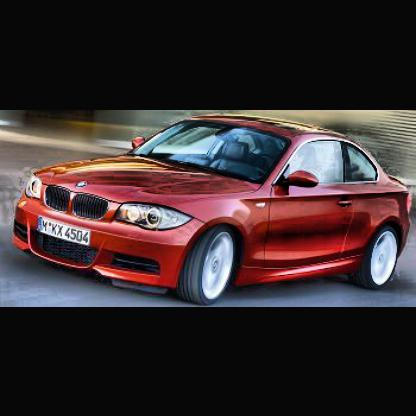BMW 1 Series Coupe 2012: (13, 115, 414, 306)
